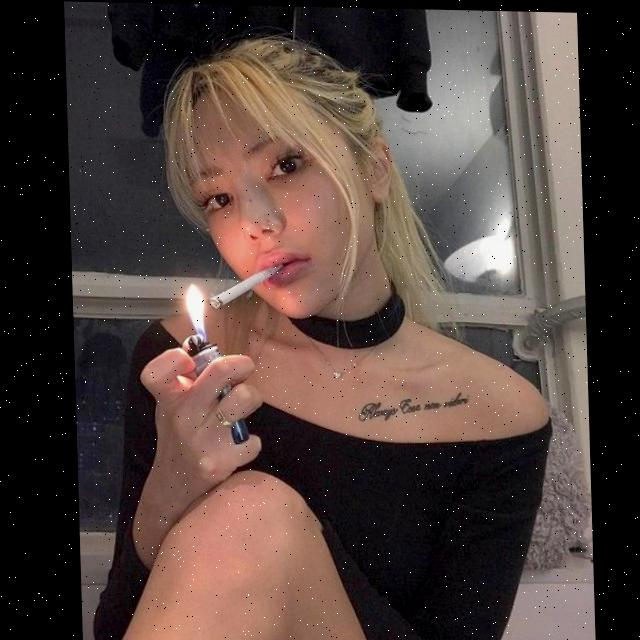cigarette: (207, 262, 282, 309)
